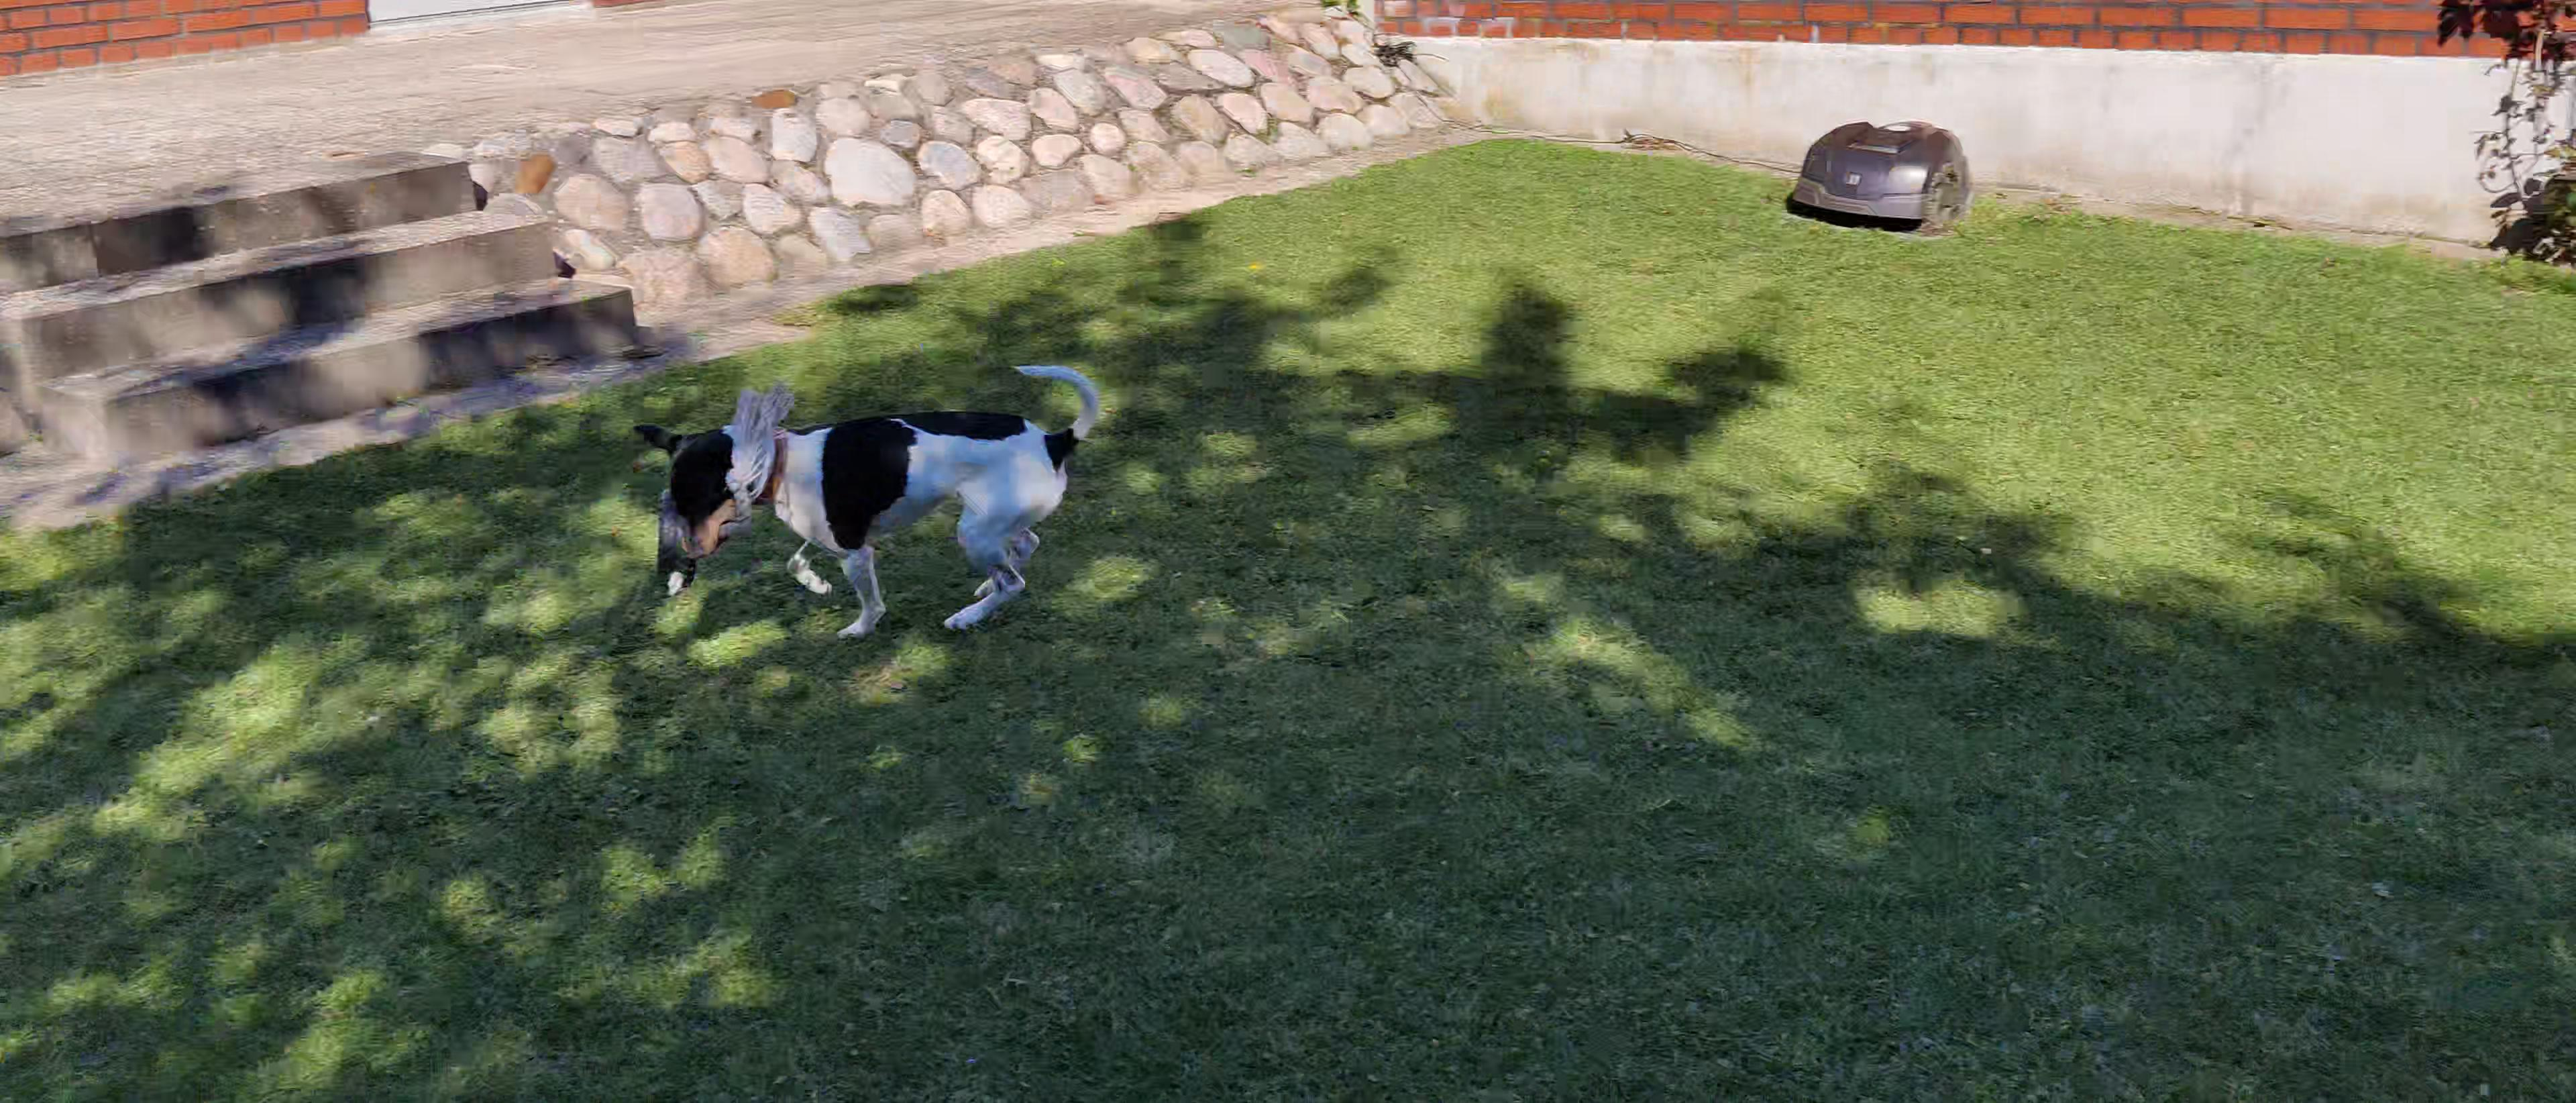Dog: (605, 340, 1122, 656)
